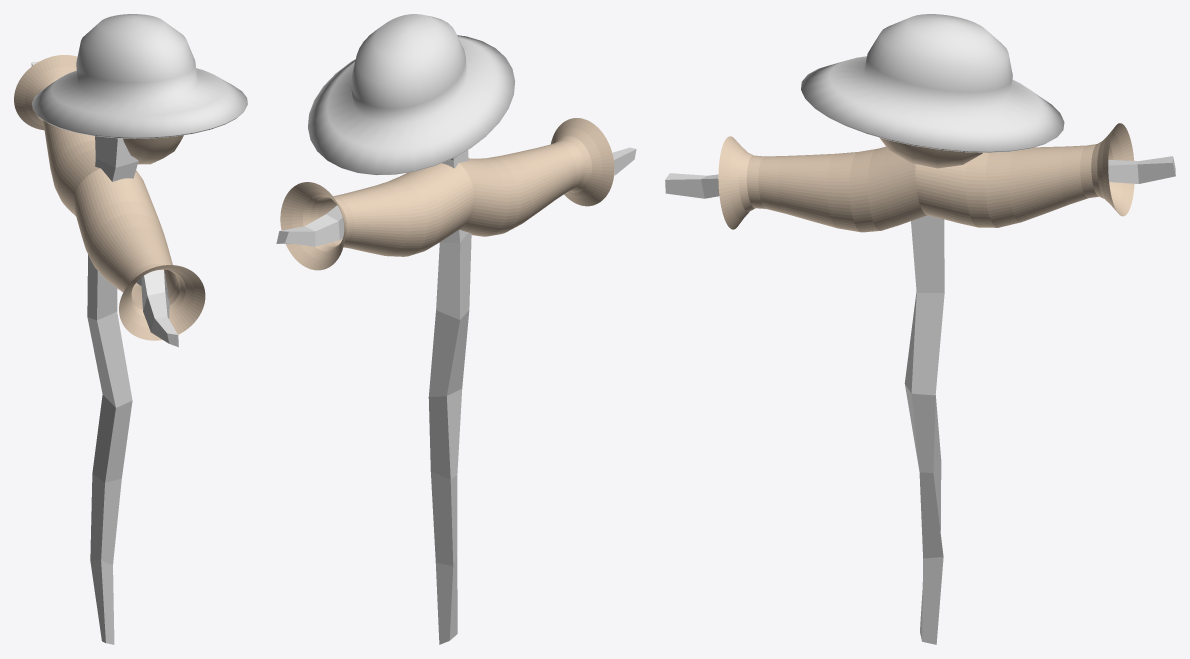
The model's file is epouventail.fbx.
The picture shows the model from 3 angles, left to right: view 1: azimuth 30°, elevation 25°; view 2: azimuth 150°, elevation 25°; view 3: azimuth 270°, elevation 25°; orthographic projection. The views are drawn at different scales.
Visible parts, largest first — view 1: chapeau.001, bras.001, baton.003, baton.002, tete.001; view 2: chapeau.001, bras.001, baton.003, baton.002; view 3: bras.001, chapeau.001, baton.003, baton.002, tete.001.
Boxes of the visible parts, x1,y1,x2,y2 form: chapeau.001: [32, 14, 247, 138]; bras.001: [14, 55, 205, 340]; baton.003: [87, 136, 138, 644]; baton.002: [31, 61, 178, 347]; tete.001: [123, 135, 183, 164]; chapeau.001: [308, 14, 515, 175]; bras.001: [280, 118, 614, 270]; baton.003: [428, 150, 471, 644]; baton.002: [276, 147, 636, 246]; bras.001: [718, 123, 1134, 232]; chapeau.001: [801, 14, 1064, 152]; baton.003: [904, 215, 944, 644]; baton.002: [665, 156, 1175, 198]; tete.001: [879, 137, 982, 168].
Size of the model in its own units: 73.35 by 219 by 159.
